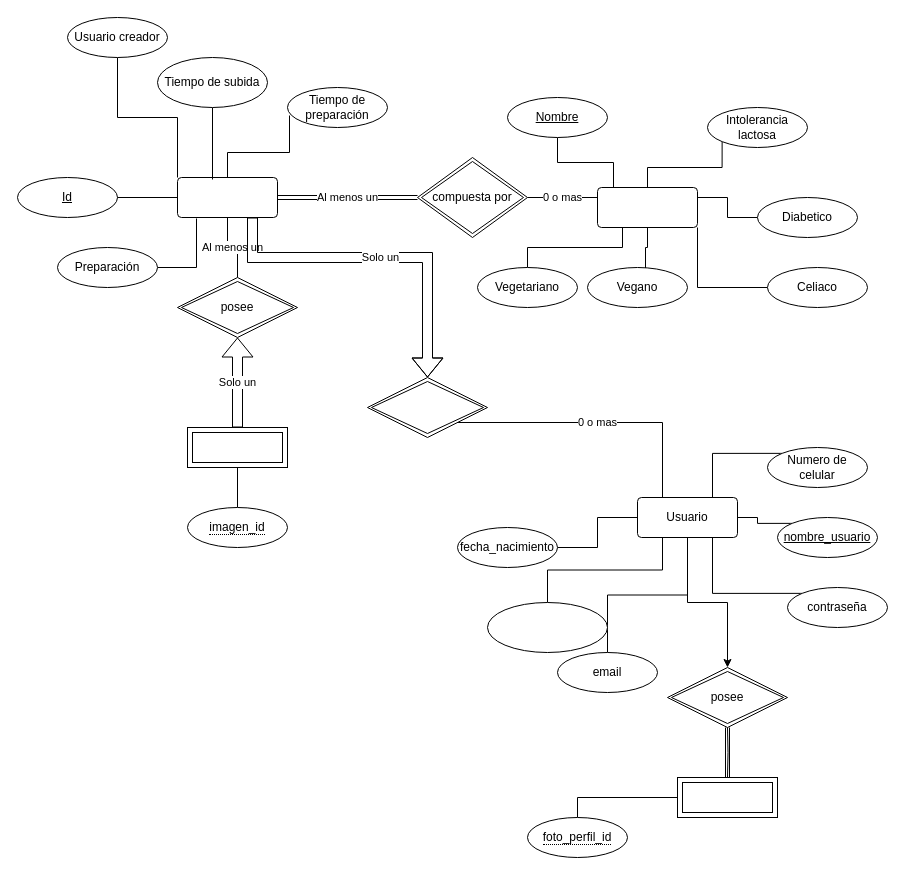
Image size: 905x875. Some labels were removed from this diagram. The shapes that lost their labels are listed below. From the top down, each one's centre as x and y in pixels, then its label:
point 227,197: Receta
point 647,207: Ingrediente
point 427,407: creado por
point 237,447: Imagen
point 547,627: nombre_completo
point 727,797: FotoPerfil
